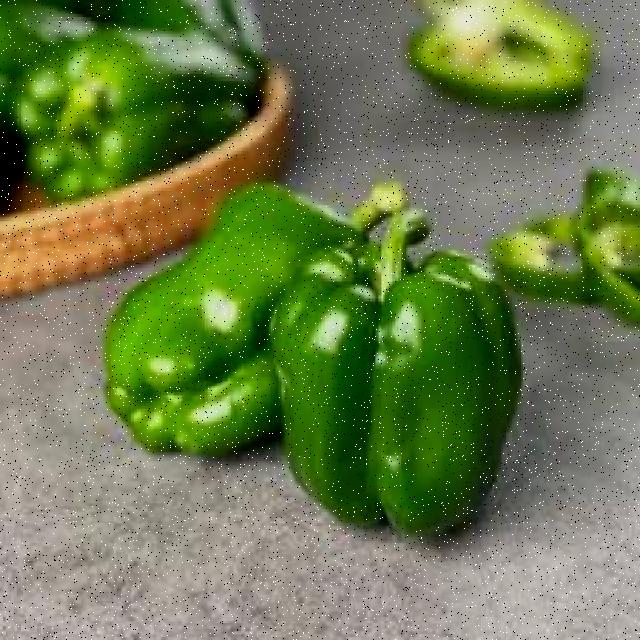Bell Pepper: (260, 200, 542, 554)
